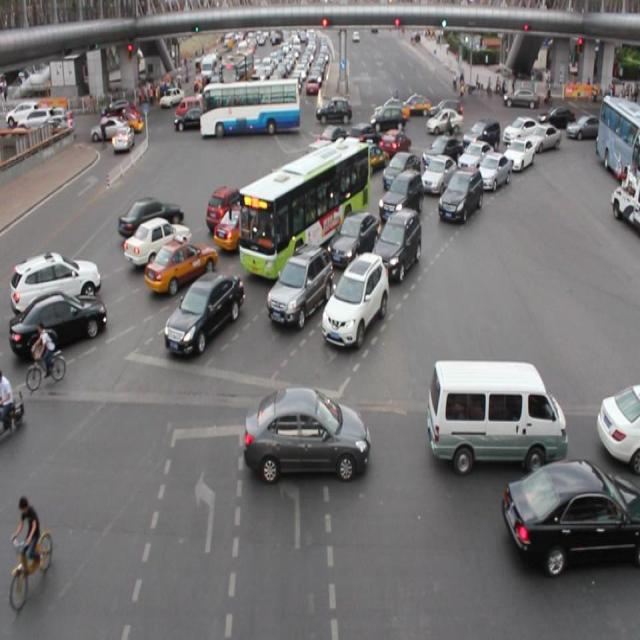car: (500, 459, 640, 569), (243, 384, 369, 479), (12, 290, 108, 359), (164, 272, 244, 351), (321, 251, 387, 346), (9, 252, 100, 312), (267, 242, 331, 324), (594, 384, 640, 472), (370, 207, 422, 282), (145, 238, 216, 292), (124, 217, 191, 267), (213, 201, 276, 251), (328, 211, 380, 268), (119, 198, 185, 242), (378, 168, 423, 224), (270, 177, 326, 222), (438, 167, 481, 225), (261, 166, 310, 210), (206, 186, 252, 231), (312, 159, 361, 201), (382, 152, 421, 192), (457, 140, 494, 180), (421, 135, 461, 171), (420, 155, 455, 196), (476, 153, 509, 194), (461, 118, 500, 152), (348, 140, 387, 172), (346, 122, 379, 157), (316, 126, 348, 161), (502, 116, 544, 142), (378, 128, 410, 162), (503, 138, 532, 174), (523, 125, 559, 149)
truck: (427, 358, 567, 473), (298, 142, 344, 186)
van: (240, 142, 369, 278)
